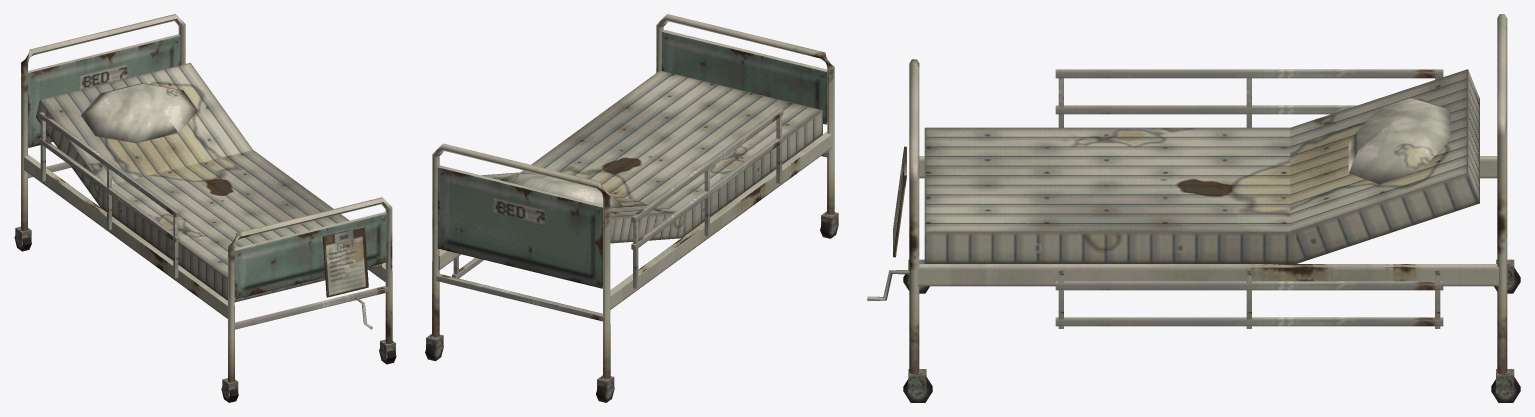
Rendered from hospital_bed.obj.
3 renders of one model, left to right at view 1: azimuth 30°, elevation 25°; view 2: azimuth 150°, elevation 25°; view 3: azimuth 270°, elevation 25°, orthographic. The views are drawn at different scales.
Parts seen in each view (by area): view 1: hospital_bed; view 2: hospital_bed; view 3: hospital_bed.
Part boxes in pixels (x1,y1,x2,y2): hospital_bed: [14, 14, 396, 402]; hospital_bed: [425, 14, 838, 402]; hospital_bed: [867, 14, 1520, 402].
Bounding box in the file's own units: 0.944 × 1.06 × 2.22.
Materials: 1 (1 with a texture image).
